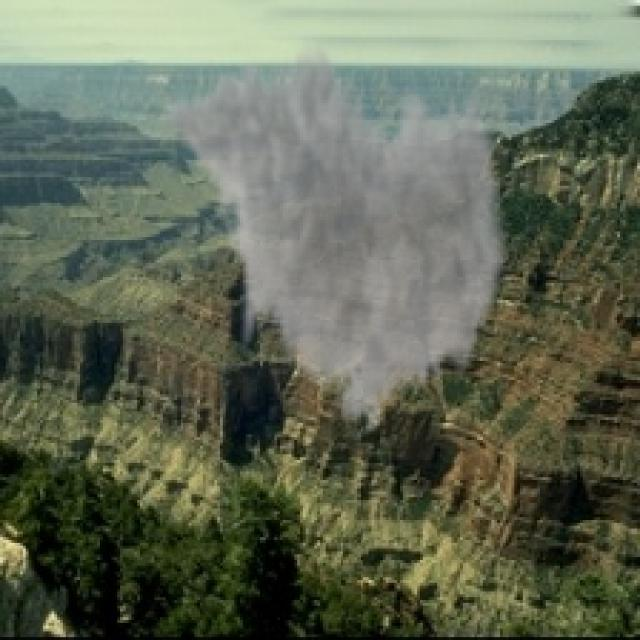Smoke: (163, 31, 512, 440)
